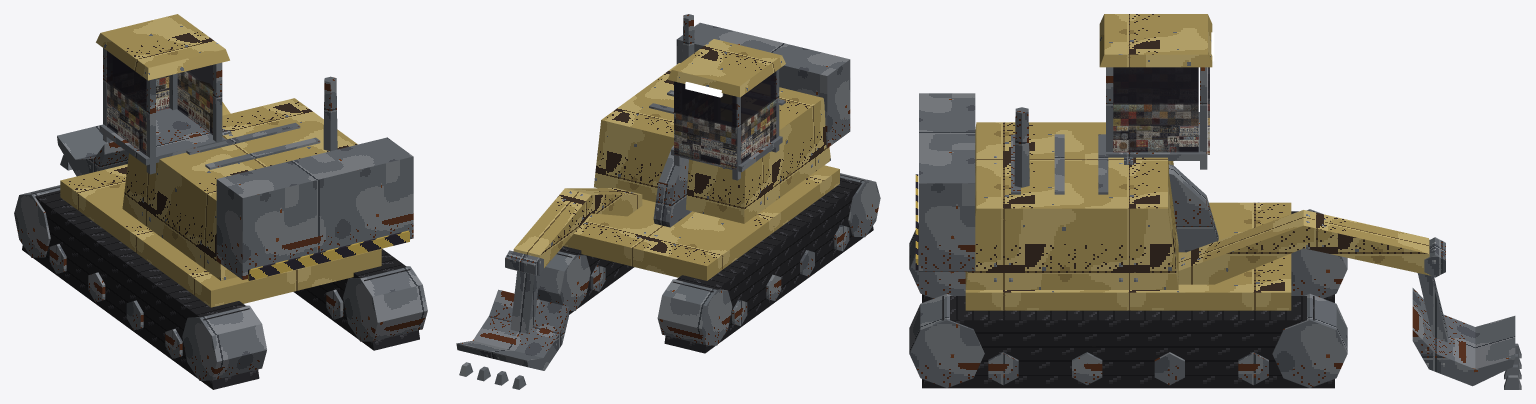
File: vehicles__excavator.glb
The picture shows the model from 3 angles, left to right: view 1: azimuth 30°, elevation 25°; view 2: azimuth 150°, elevation 25°; view 3: azimuth 270°, elevation 25°; orthographic projection. The views are drawn at different scales.
Visible parts, largest first — view 1: _MeshInstance3D_267, _MeshInstance3D_266, _MeshInstance3D_264, _MeshInstance3D_265, _MeshInstance3D_263, _MeshInstance3D_269, _MeshInstance3D_280, _MeshInstance3D_268; view 2: _MeshInstance3D_266, _MeshInstance3D_263, _MeshInstance3D_264, _MeshInstance3D_265, _MeshInstance3D_267, _MeshInstance3D_269, _MeshInstance3D_280, _MeshInstance3D_272, _MeshInstance3D_279, _MeshInstance3D_273; view 3: _MeshInstance3D_266, _MeshInstance3D_265, _MeshInstance3D_264, _MeshInstance3D_267, _MeshInstance3D_263, _MeshInstance3D_272, _MeshInstance3D_269, _MeshInstance3D_280, _MeshInstance3D_279, _MeshInstance3D_273.
Part boxes in pixels (left/top/right/bottom): _MeshInstance3D_267: left=99, top=48, right=413, bottom=279; _MeshInstance3D_266: left=96, top=14, right=357, bottom=280; _MeshInstance3D_264: left=14, top=130, right=427, bottom=380; _MeshInstance3D_265: left=22, top=187, right=419, bottom=389; _MeshInstance3D_263: left=60, top=164, right=381, bottom=307; _MeshInstance3D_269: left=107, top=51, right=212, bottom=155; _MeshInstance3D_280: left=57, top=125, right=128, bottom=176; _MeshInstance3D_268: left=248, top=230, right=409, bottom=280; _MeshInstance3D_266: left=594, top=39, right=830, bottom=223; _MeshInstance3D_263: left=563, top=165, right=839, bottom=280; _MeshInstance3D_264: left=537, top=145, right=880, bottom=345; _MeshInstance3D_265: left=557, top=174, right=873, bottom=353; _MeshInstance3D_267: left=649, top=14, right=850, bottom=180; _MeshInstance3D_269: left=674, top=71, right=776, bottom=169; _MeshInstance3D_280: left=456, top=289, right=568, bottom=389; _MeshInstance3D_272: left=513, top=188, right=642, bottom=267; _MeshInstance3D_279: left=510, top=271, right=539, bottom=333; _MeshInstance3D_273: left=505, top=250, right=543, bottom=276; _MeshInstance3D_266: left=965, top=14, right=1212, bottom=289; _MeshInstance3D_265: left=922, top=211, right=1334, bottom=388; _MeshInstance3D_264: left=909, top=156, right=1347, bottom=387; _MeshInstance3D_267: left=919, top=67, right=1207, bottom=271; _MeshInstance3D_263: left=965, top=202, right=1291, bottom=310; _MeshInstance3D_272: left=1178, top=210, right=1430, bottom=284; _MeshInstance3D_269: left=1113, top=67, right=1209, bottom=154; _MeshInstance3D_280: left=1412, top=288, right=1521, bottom=389; _MeshInstance3D_279: left=1417, top=273, right=1447, bottom=342; _MeshInstance3D_273: left=1424, top=237, right=1445, bottom=277.
Size of the model in its own units: 2.12 by 2.51 by 4.89.
Materials: 8 (7 with a texture image).
